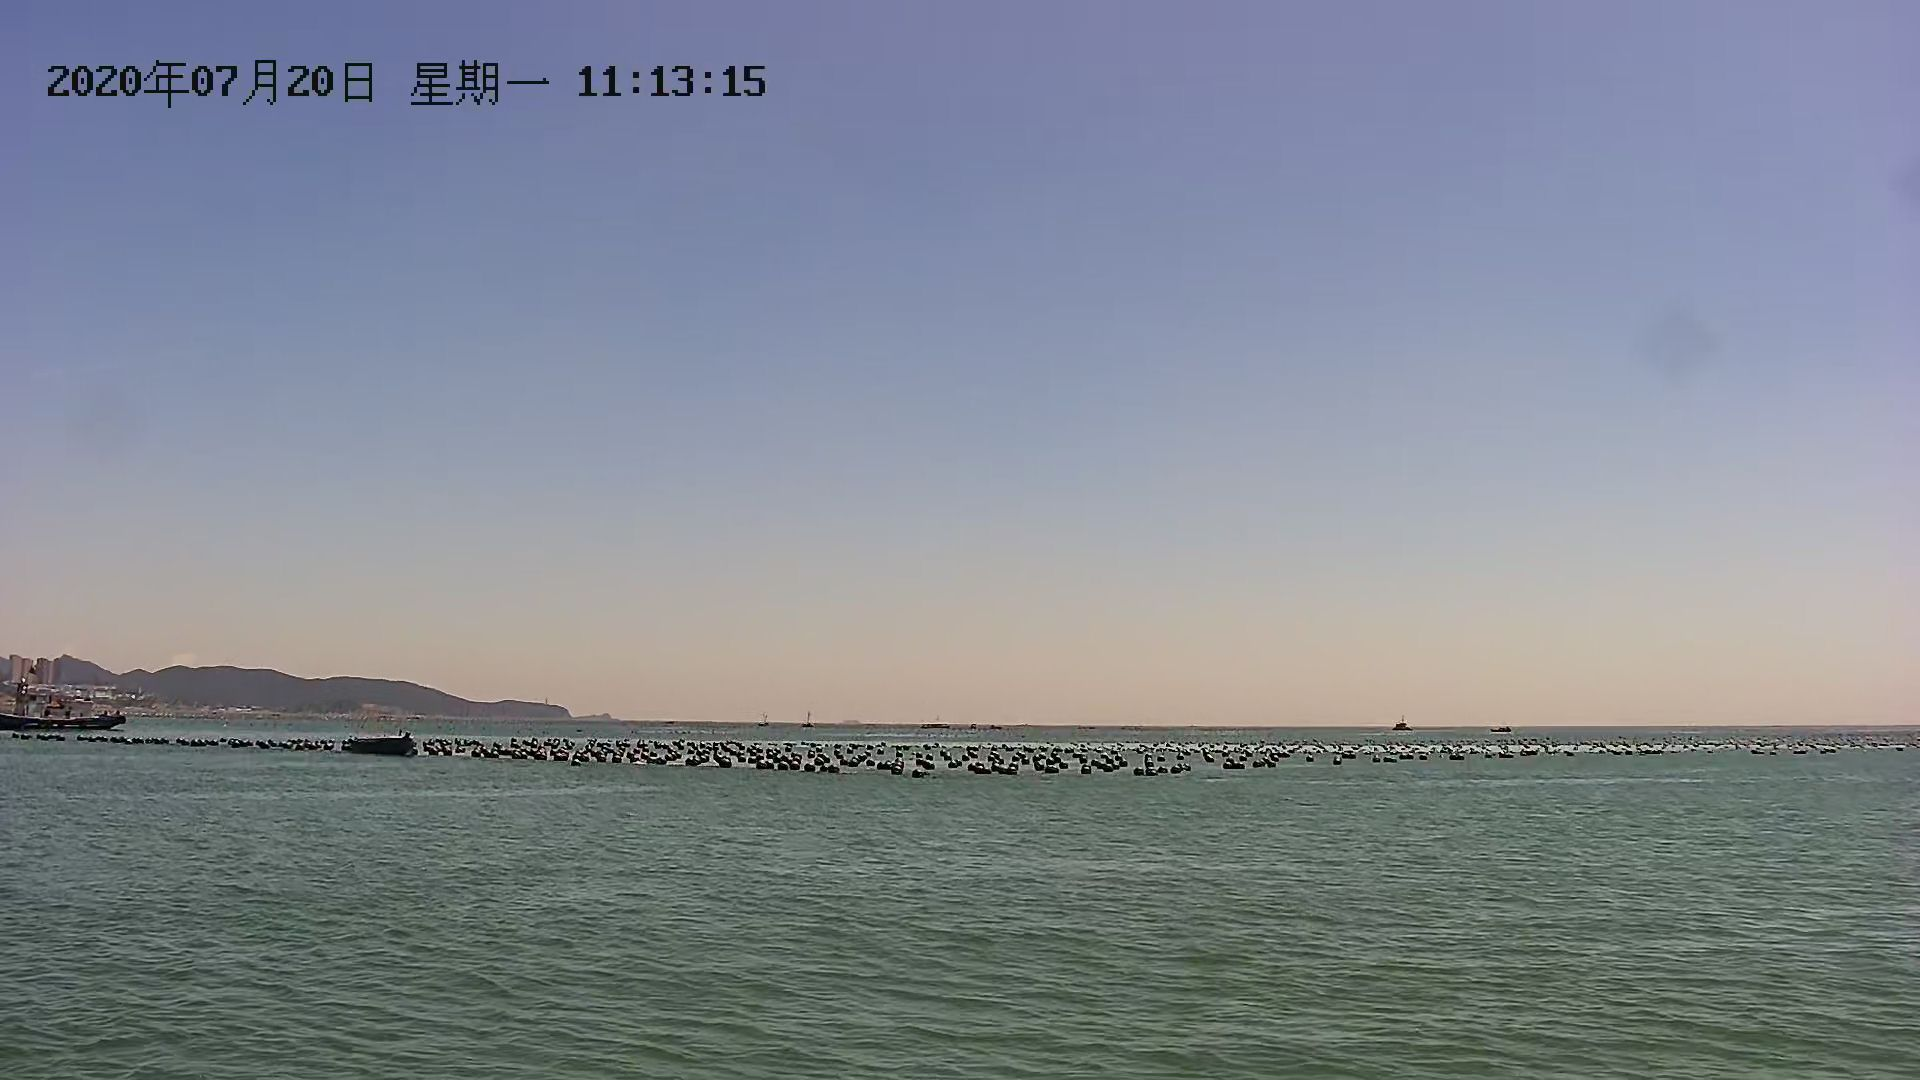boat: (1, 698, 129, 745), (338, 731, 417, 762)
rock: (1, 650, 588, 731)
